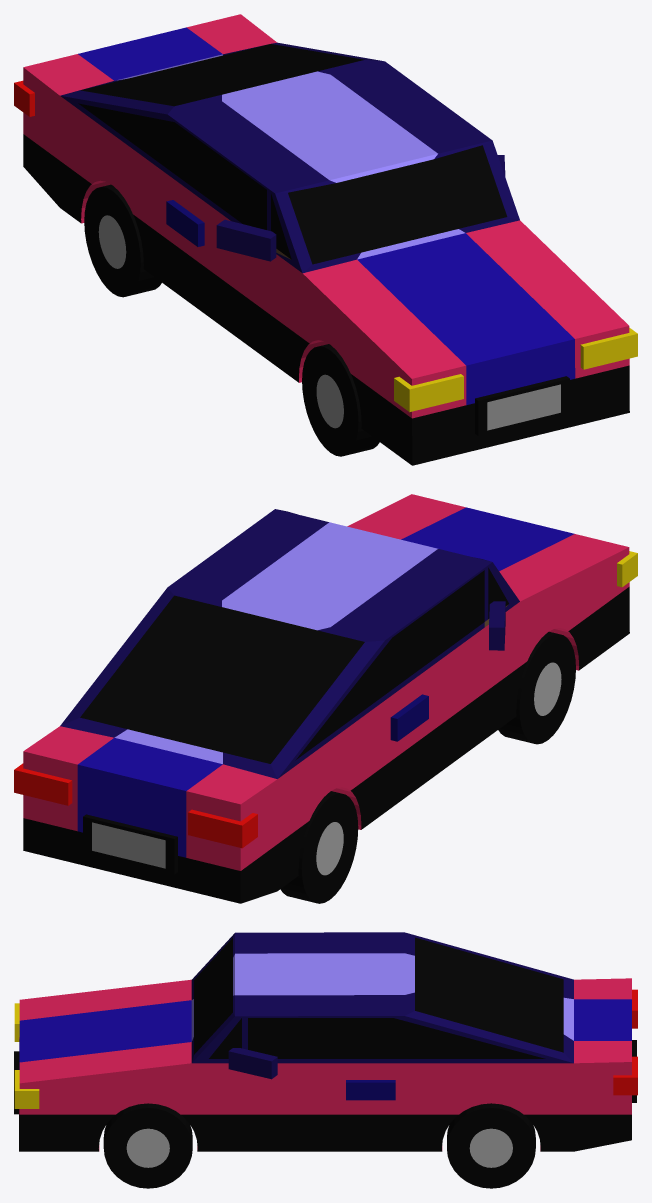
Rendered from Mobil_Satu_Pink.fbx.
3 views of the same model, one above another, from view 1: azimuth 30°, elevation 25°; view 2: azimuth 150°, elevation 25°; view 3: azimuth 270°, elevation 25° (orthographic). The views are drawn at different scales.
Visible parts, largest first — view 1: Mobil1; view 2: Mobil1; view 3: Mobil1.
Part boxes in pixels (x1,y1,x2,y2): Mobil1: (14,14,637,465); Mobil1: (14,494,637,903); Mobil1: (14,932,637,1188).
Size of the model in its own units: 529 by 385 by 1261.
